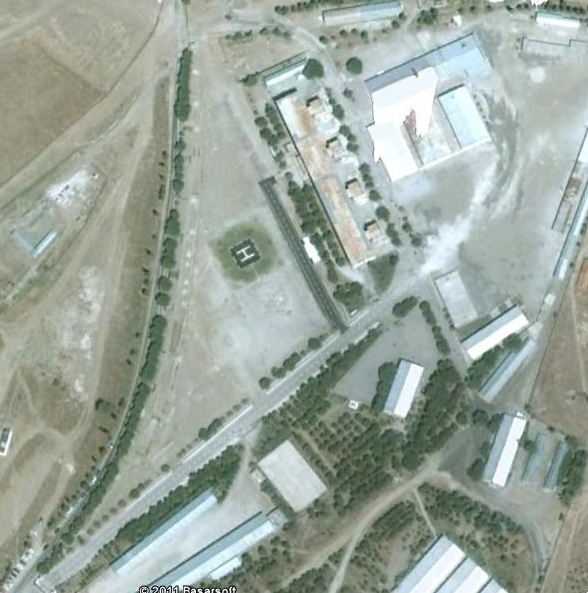heliport: (231, 242, 256, 263)
